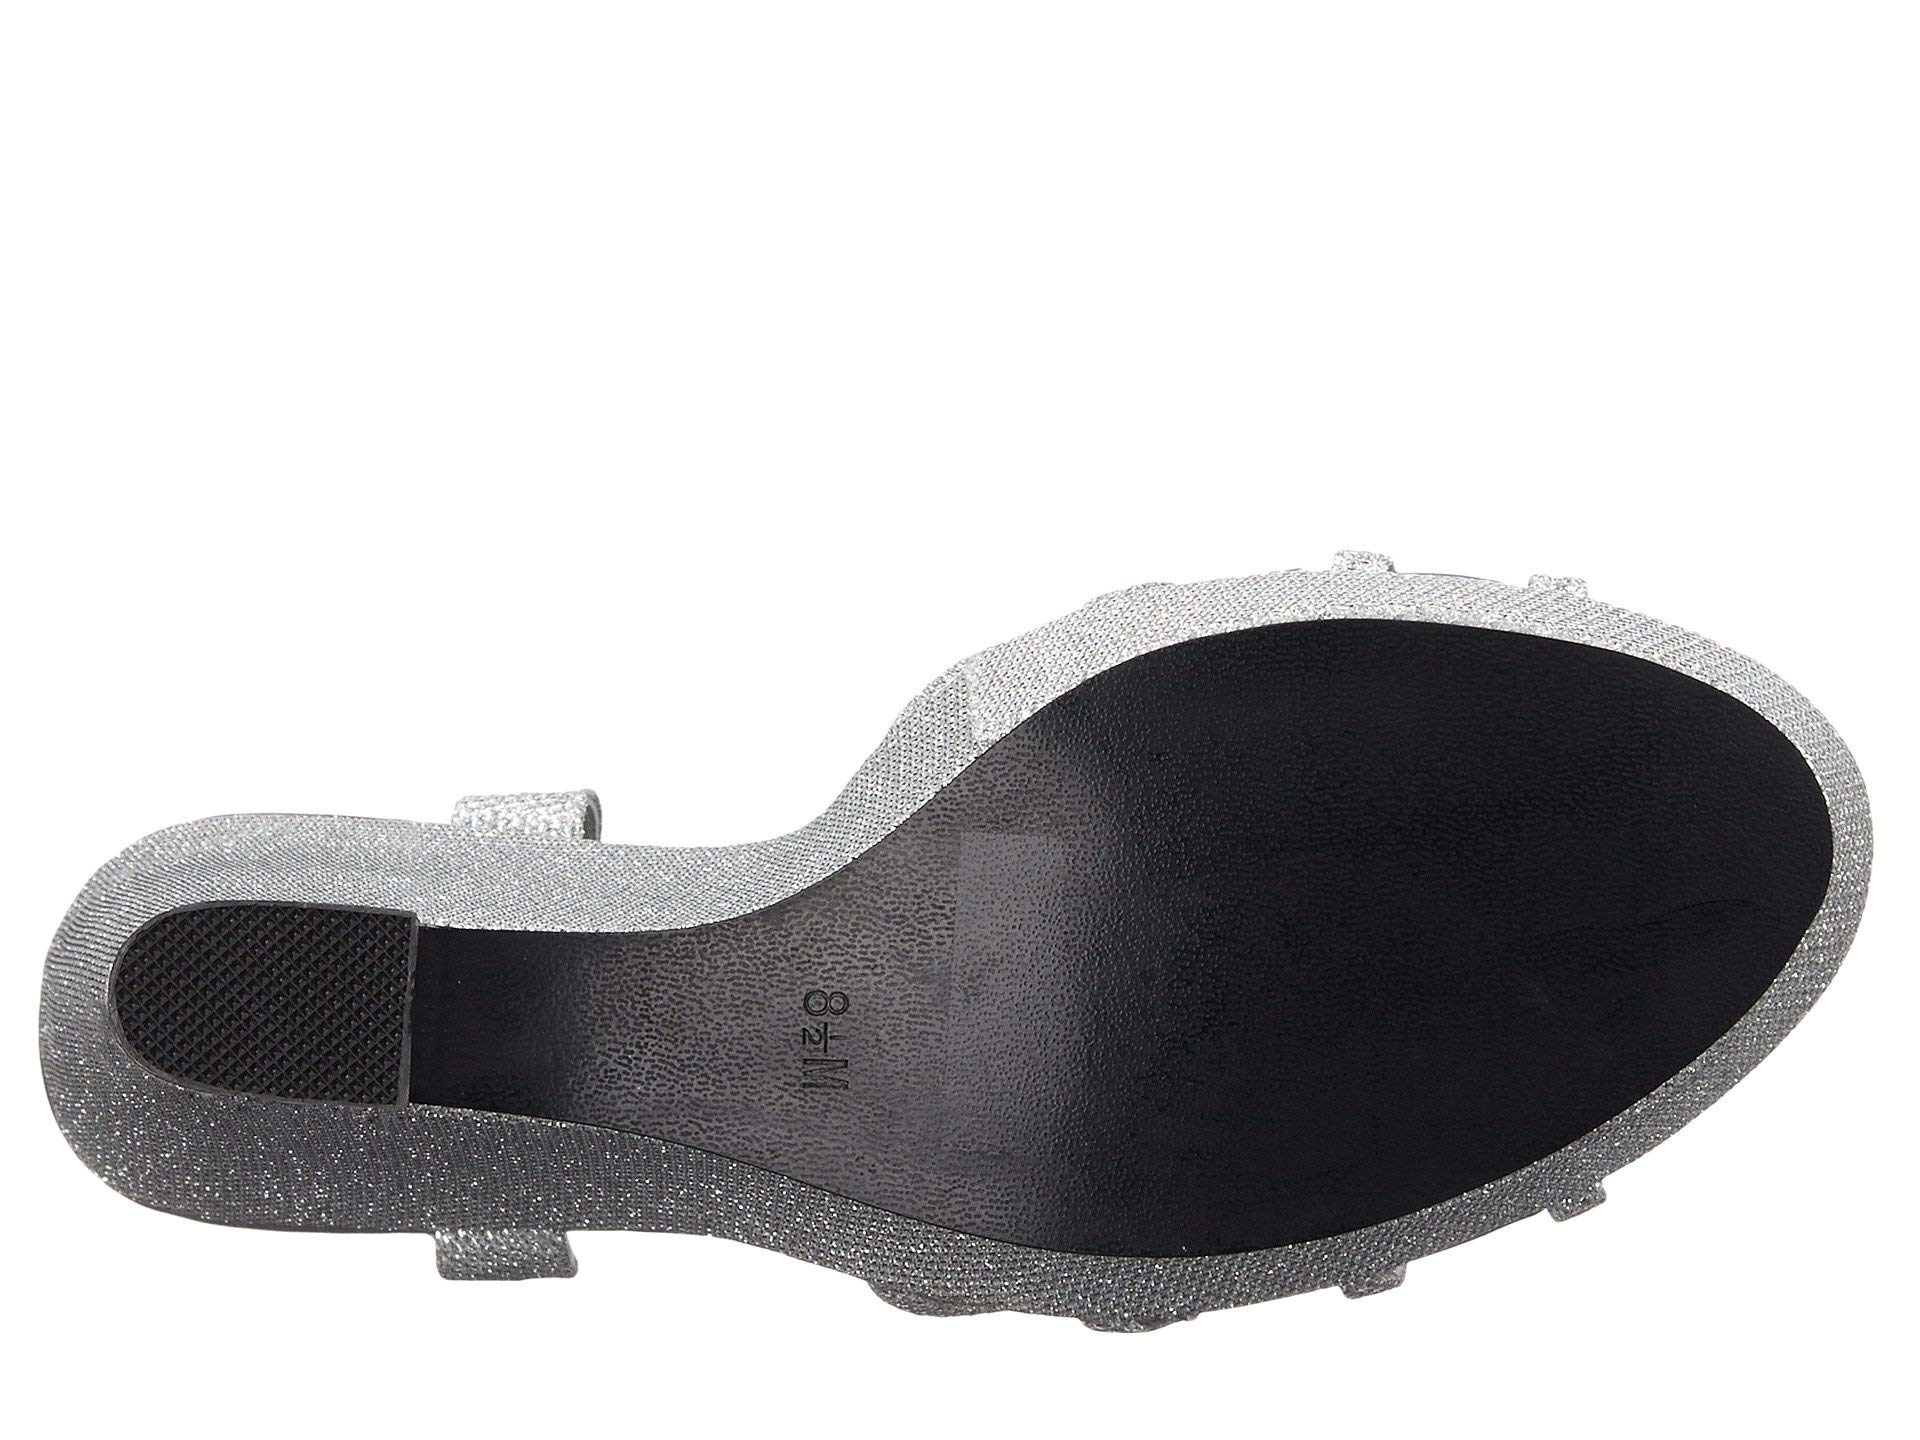quad: (933, 790, 1081, 1174), (168, 920, 367, 1060)
text: (753, 976, 880, 1134)
